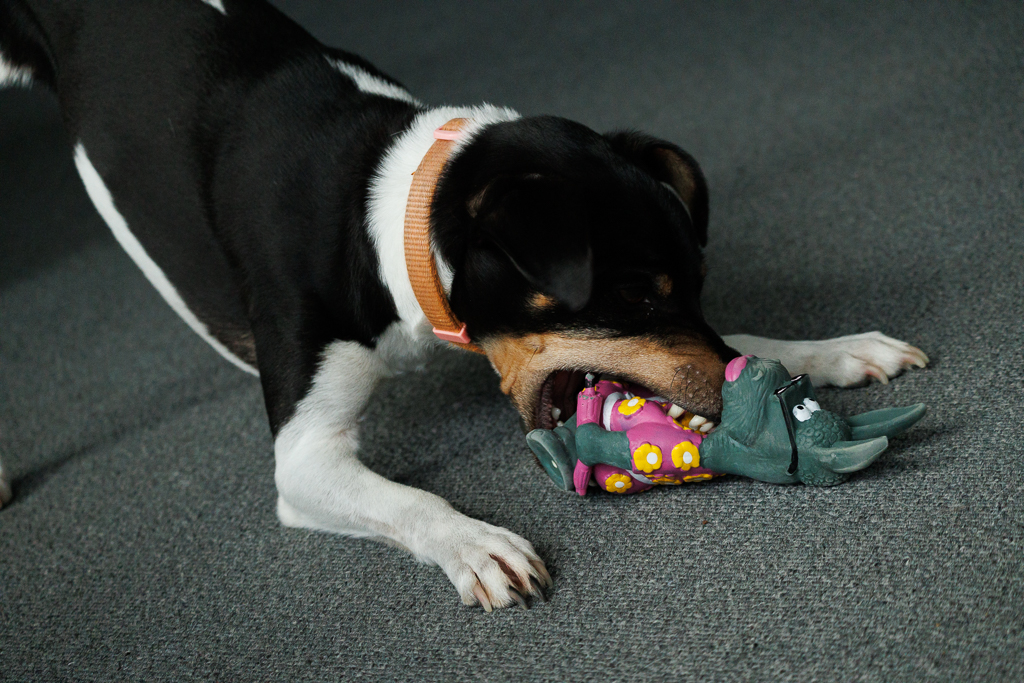Dog: (0, 0, 934, 618)
Humanoid: (510, 348, 938, 506)
